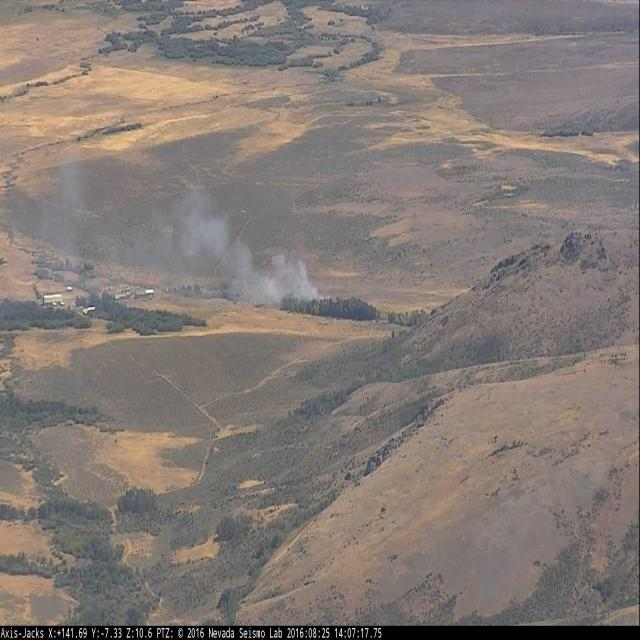smoke: (185, 187, 325, 308)
